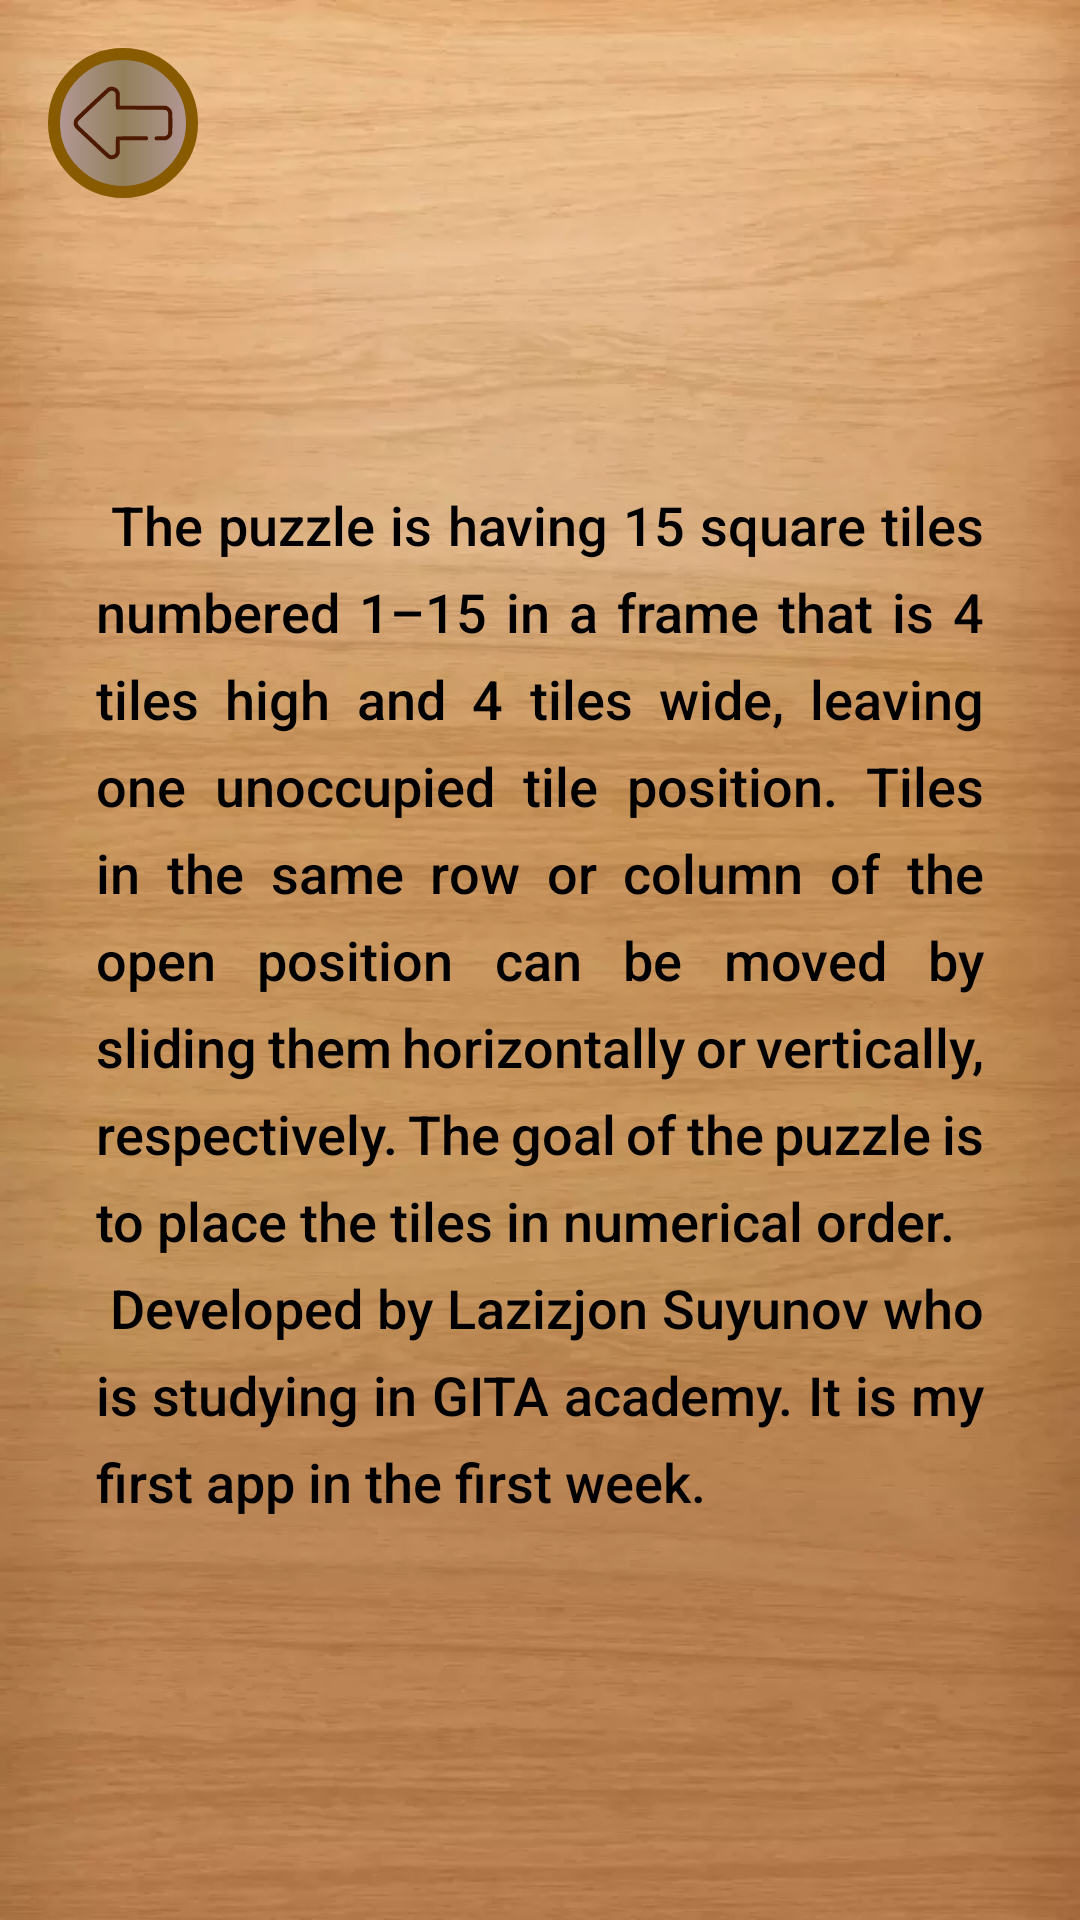

Point at icon controls on the screen. Image size 1080 x 1920, points as (x,y).
back: (123,123)
